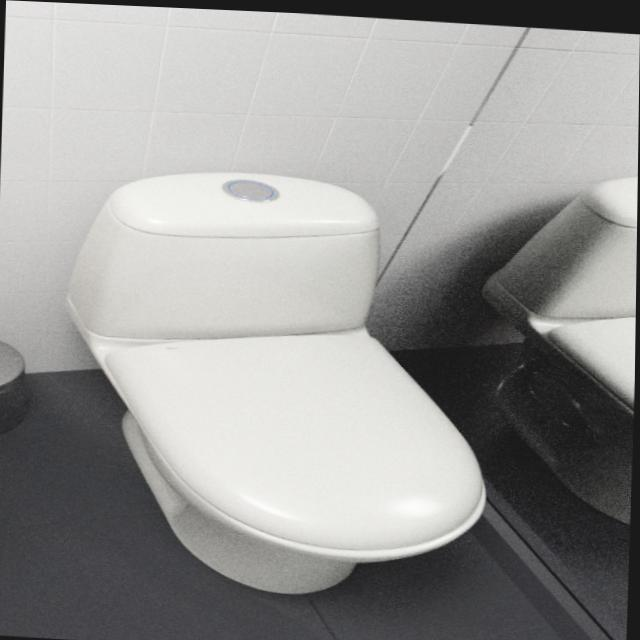toilet: (55, 159, 497, 601)
